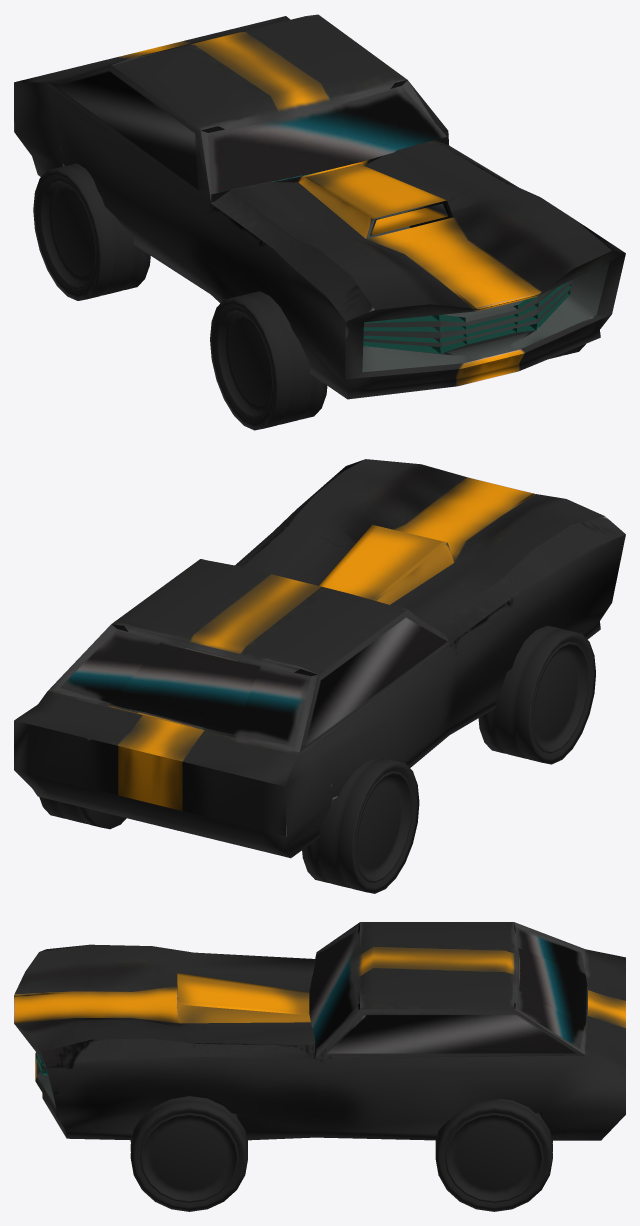
The model's file is PlayerCar.fbx.
3 renders of one model, top to bottom at view 1: azimuth 30°, elevation 25°; view 2: azimuth 150°, elevation 25°; view 3: azimuth 270°, elevation 25°, orthographic. The views are drawn at different scales.
Parts seen in each view (by area): view 1: carBody, front_R_Wheel, back_R_Wheel; view 2: carBody, front_R_Wheel, back_R_Wheel, back_L_Wheel; view 3: carBody, front_L_Wheel, back_L_Wheel.
Boxes of the visible parts, x1,y1,x2,y2 form: carBody: [14, 14, 625, 399]; front_R_Wheel: [210, 291, 327, 430]; back_R_Wheel: [33, 163, 150, 300]; carBody: [14, 459, 625, 858]; front_R_Wheel: [478, 625, 595, 764]; back_R_Wheel: [302, 758, 419, 893]; back_L_Wheel: [39, 797, 126, 829]; carBody: [14, 922, 625, 1140]; front_L_Wheel: [130, 1096, 247, 1211]; back_L_Wheel: [435, 1099, 552, 1211].
Bounding box in the file's own units: 297 × 197 × 580.
Materials: 2 (1 with a texture image).
